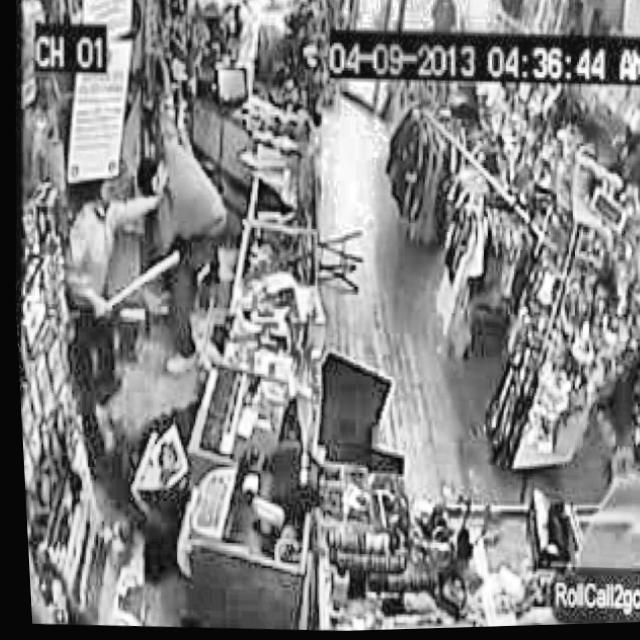robbery: (50, 130, 242, 384)
